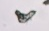microplastic: (14, 8, 38, 24), (42, 1, 49, 6)
